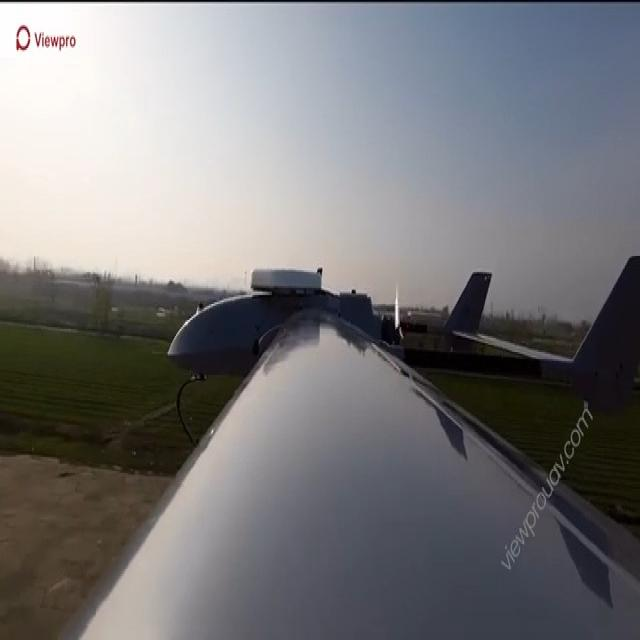drones: (161, 247, 640, 459)
